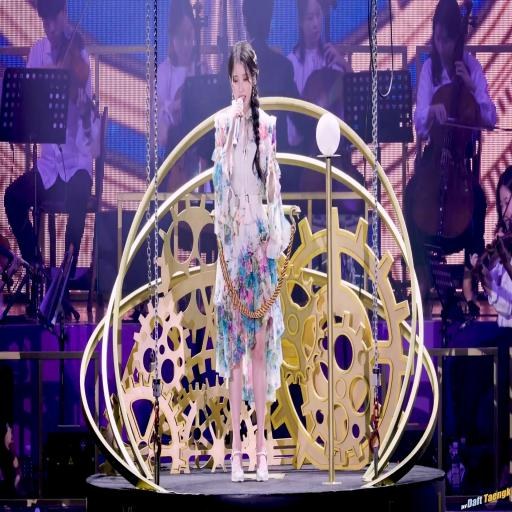IU: (228, 40, 262, 109)
